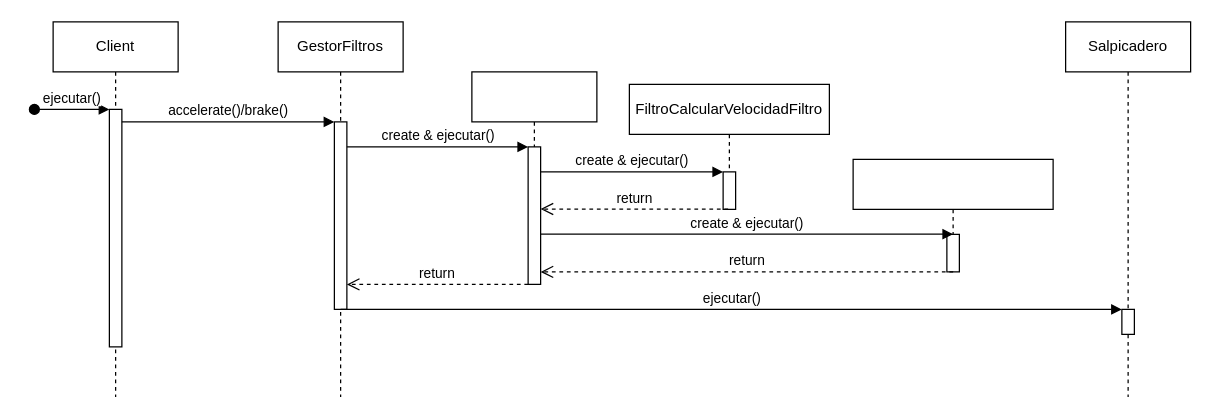
Some shapes in this 1213 by 419 pixel diagram are drawn without their labels. Each missing label, with the box of its shape:
CadenaFiltros: (471, 71, 597, 284)
RepercutirRozamiento: (852, 158, 1053, 272)
